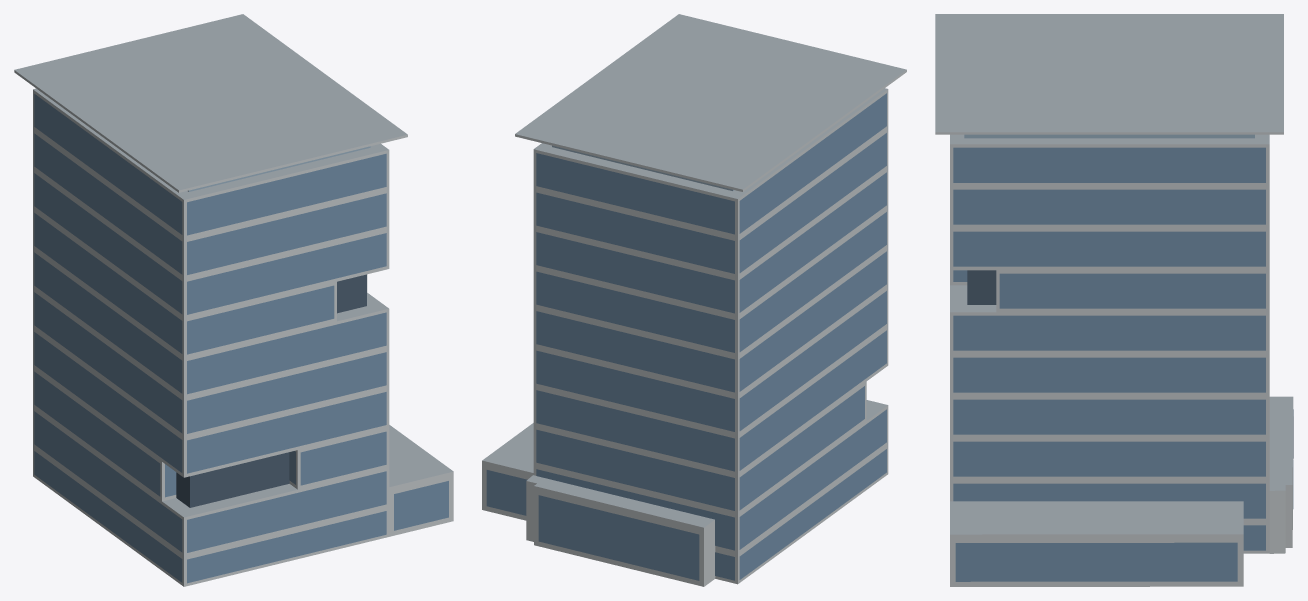
File: clt-615-south-college.glb
3 views of the same model, side by side, from view 1: azimuth 30°, elevation 25°; view 2: azimuth 150°, elevation 25°; view 3: azimuth 270°, elevation 25° (orthographic). The views are drawn at different scales.
Parts seen in each view (by area): view 1: 615 South College; view 2: 615 South College; view 3: 615 South College.
Part boxes in pixels (x1,y1,x2,y2): 615 South College: (14, 14, 453, 586); 615 South College: (482, 14, 906, 586); 615 South College: (935, 14, 1293, 586).
Bounding box in the file's own units: 59.44 × 81.5 × 61.84.
